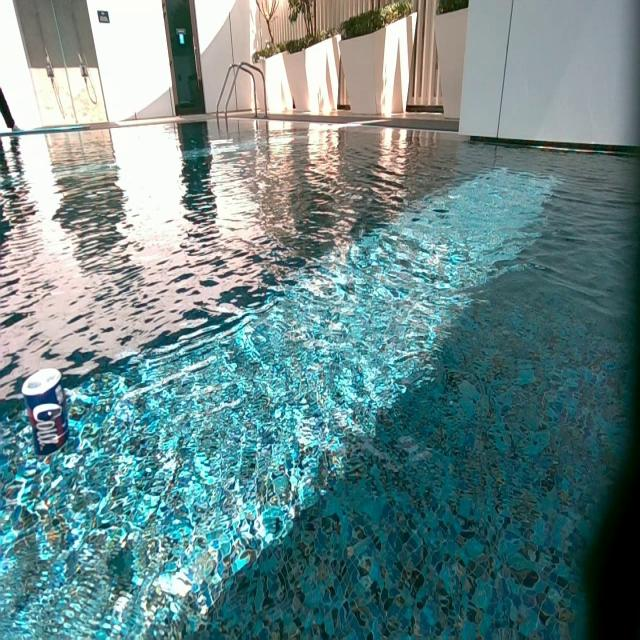Cans: (22, 368, 70, 425)
